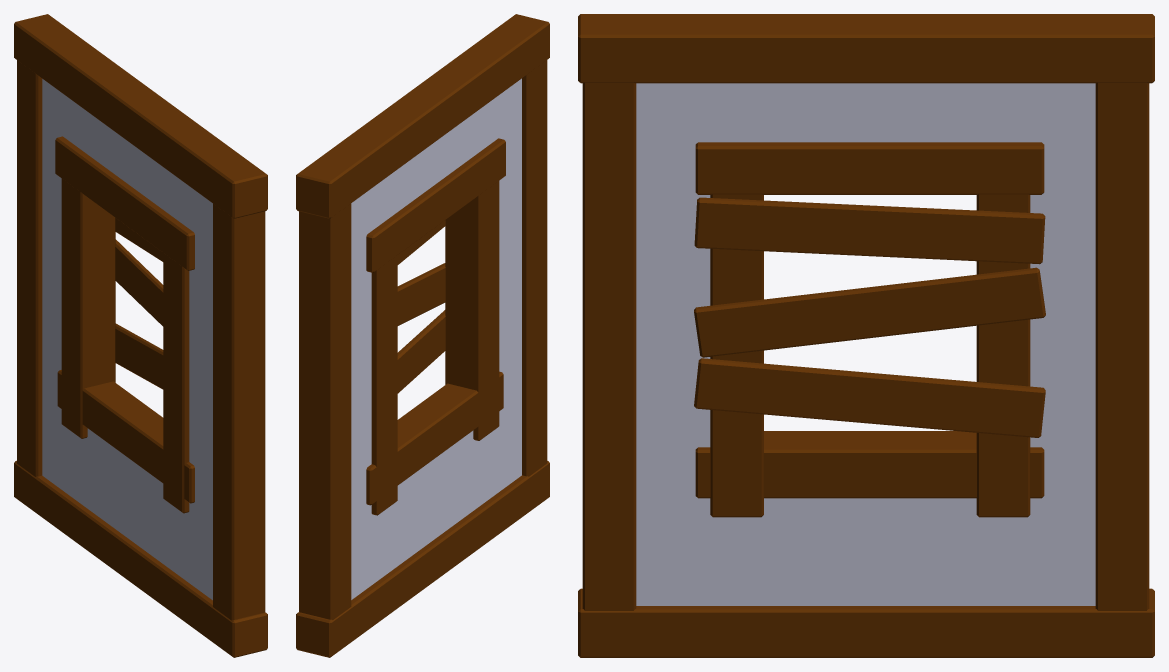
Rendered from Wall3.fbx.
3 views of the same model, side by side, from view 1: azimuth 30°, elevation 25°; view 2: azimuth 150°, elevation 25°; view 3: azimuth 270°, elevation 25° (orthographic). The views are drawn at different scales.
Parts seen in each view (by area): view 1: Plank.018; view 2: Plank.018; view 3: Plank.018.
Boxes of the visible parts, x1,y1,x2,y2 form: Plank.018: (14,14,267,657); Plank.018: (296,14,549,657); Plank.018: (578,14,1154,657).
Size of the model in its own units: 22.74 by 247 by 207.
